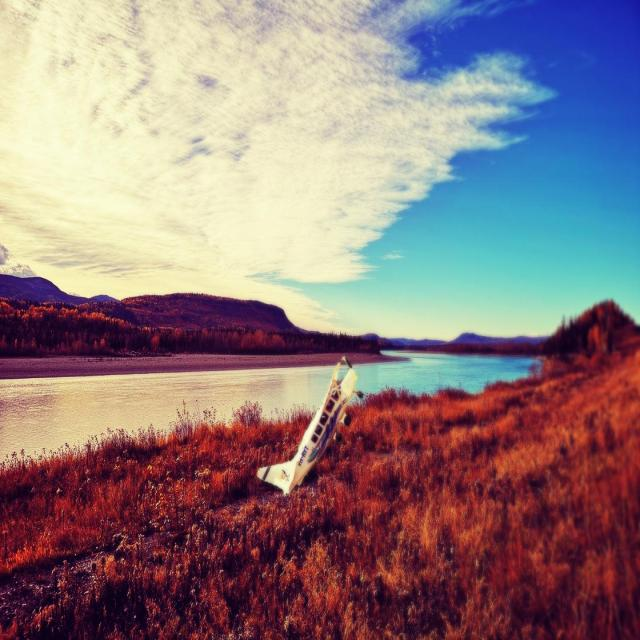airplane: (256, 354, 363, 496)
